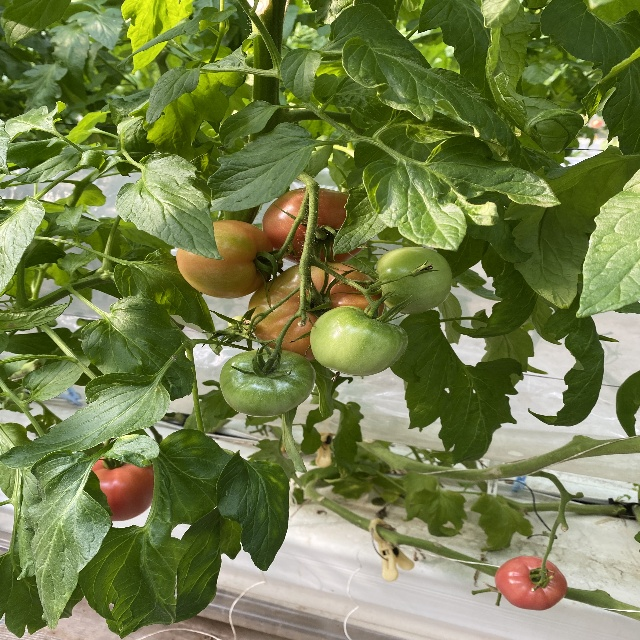b_fully_ripened: (91, 456, 154, 522), (495, 555, 567, 611)
b_green: (310, 305, 409, 376), (219, 348, 316, 417), (374, 247, 451, 315)
b_half_ripened: (247, 261, 385, 362), (262, 187, 370, 265), (175, 219, 273, 299)
